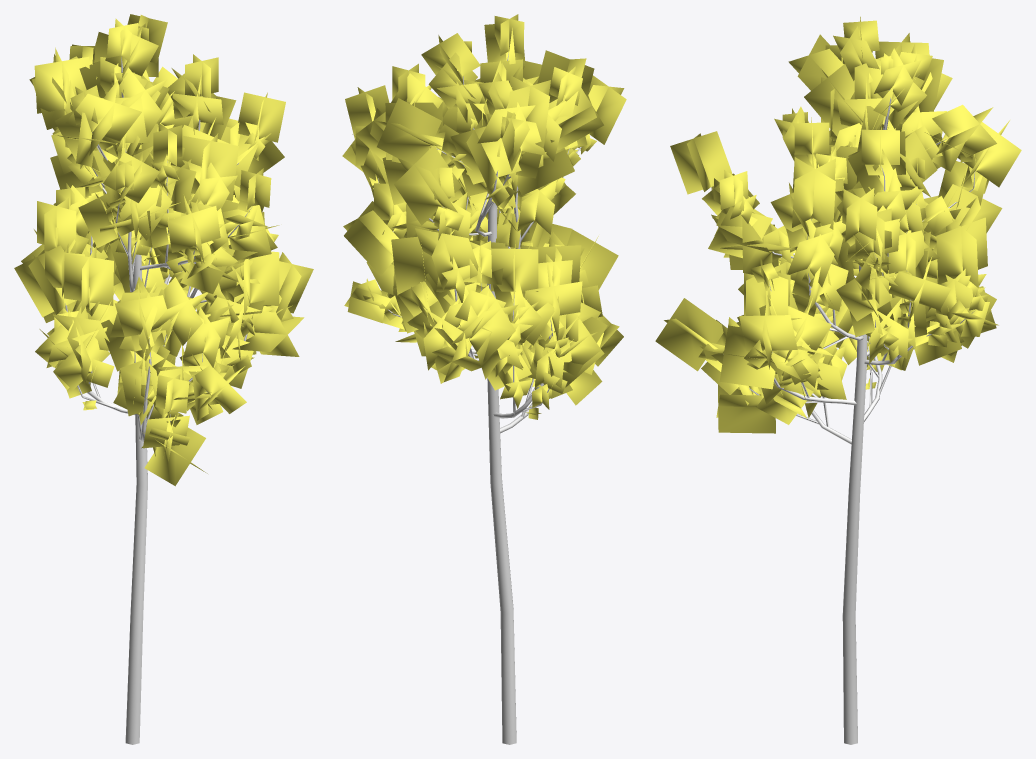
The model's file is aspen_medium_v1_lod1.glb.
3 views of the same model, side by side, from view 1: azimuth 30°, elevation 25°; view 2: azimuth 150°, elevation 25°; view 3: azimuth 270°, elevation 25° (orthographic).
Parts seen in each view (by area): view 1: Leaves, Branches; view 2: Leaves, Branches; view 3: Leaves, Branches.
Part boxes in pixels (<box>): Leaves: <box>14,14,313,486</box>; Branches: <box>65,57,251,744</box>; Leaves: <box>342,14,626,419</box>; Branches: <box>378,52,581,744</box>; Leaves: <box>655,16,1021,433</box>; Branches: <box>712,89,975,744</box>.
Size of the model in its own units: 25.17 by 70.07 by 32.38.
